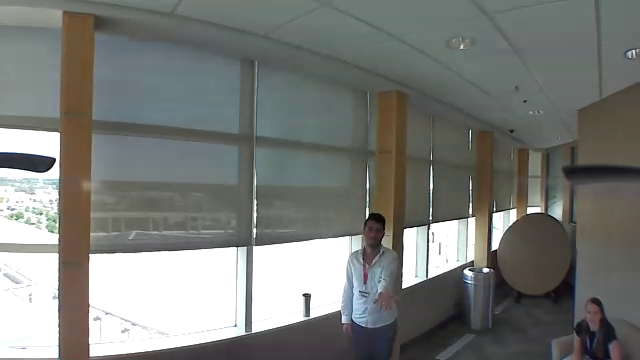land: (369, 288, 402, 312)
